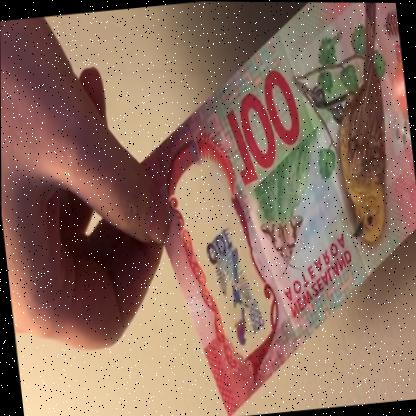100B: (198, 217, 267, 354)
